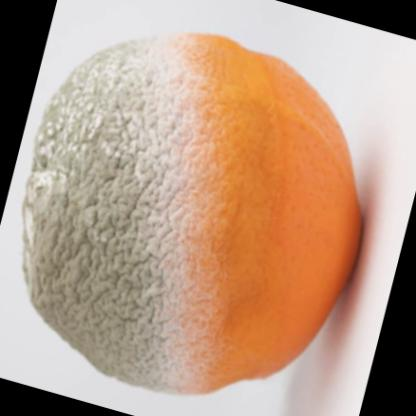rotten: (25, 32, 365, 394)
